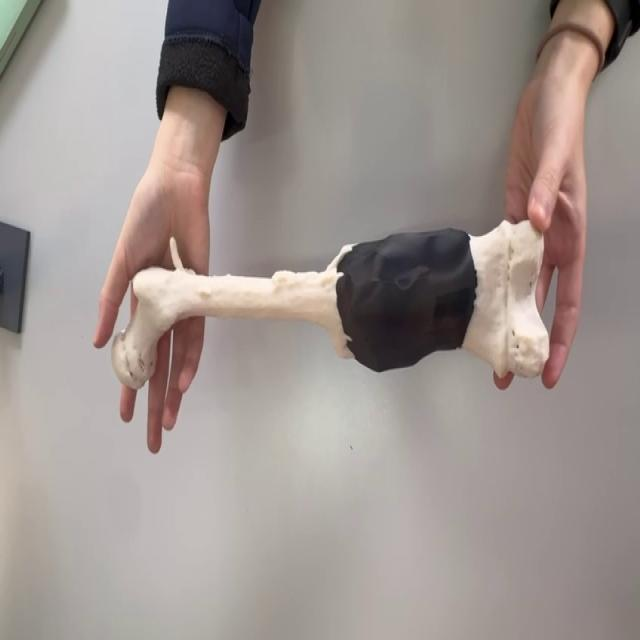bones: (112, 220, 549, 389)
